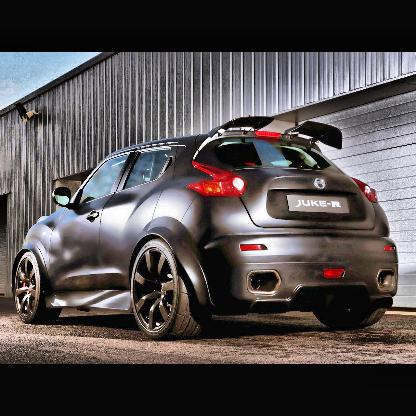Nissan Juke Hatchback 2012: (13, 113, 402, 339)
